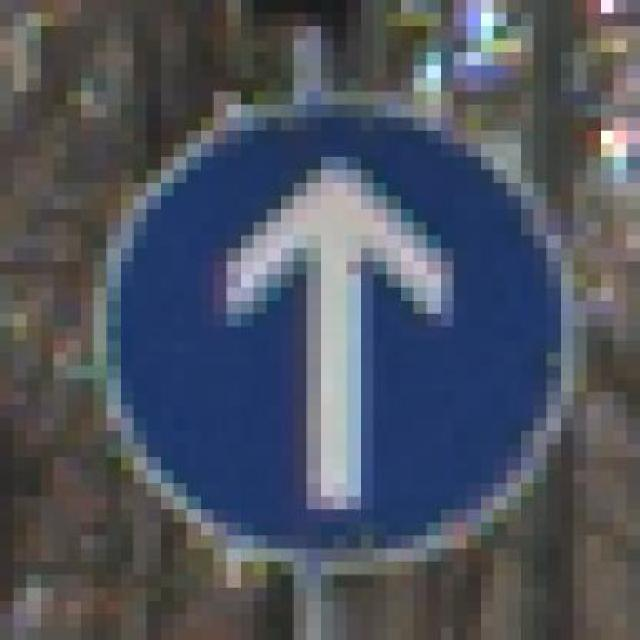Straight Ahead Only: (104, 90, 584, 588)
